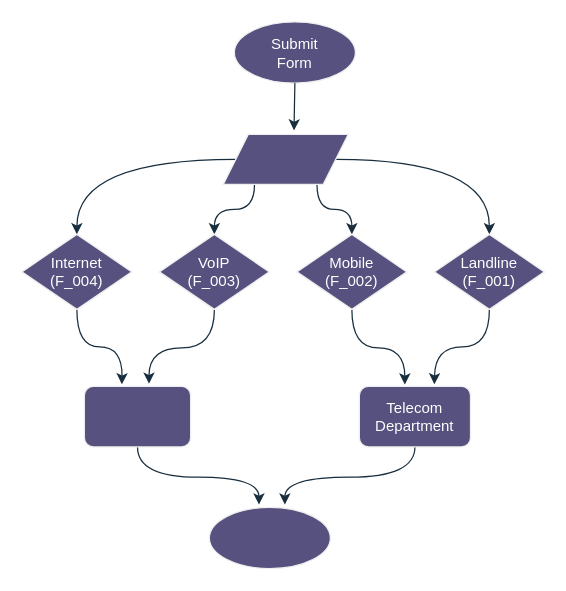
Some shapes in this 566 by 591 pixel diagram are drawn without their labels. The shapes that lost their labels are listed below. From the top down, each one's centre as x and y in pixels, then its label:
the point at 285,158: Customer Choice
the point at 137,416: Broadband Department
the point at 269,537: Place Order
